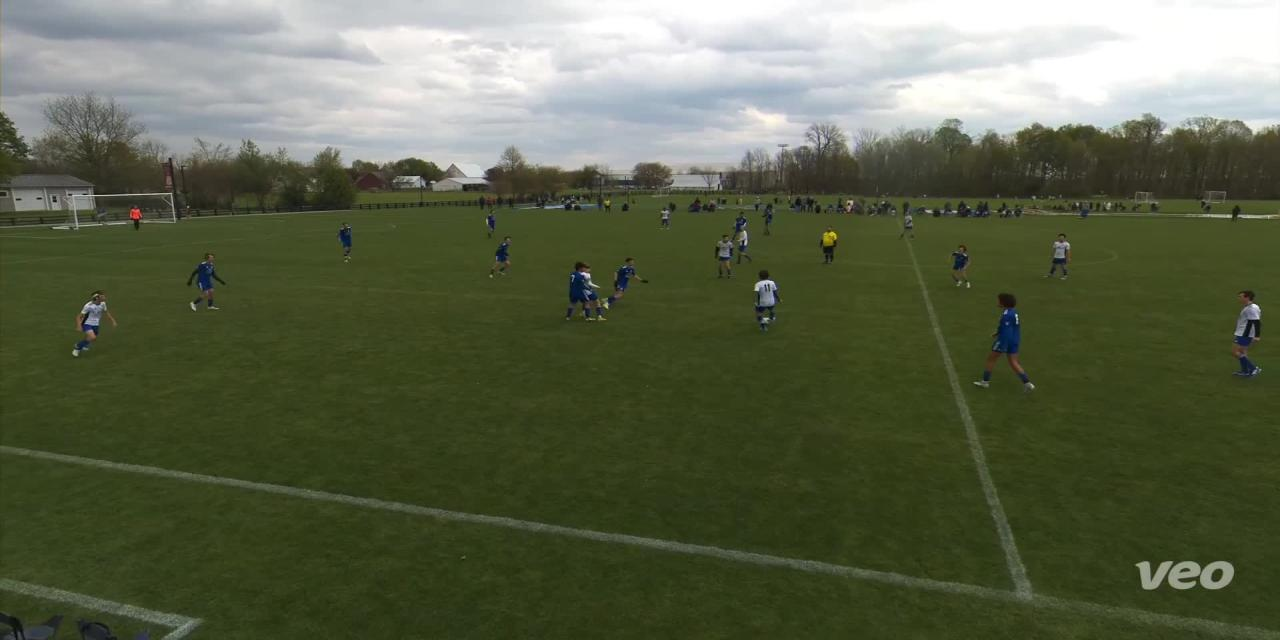goal: (43, 176, 198, 230)
sports ball: (759, 310, 780, 330)
